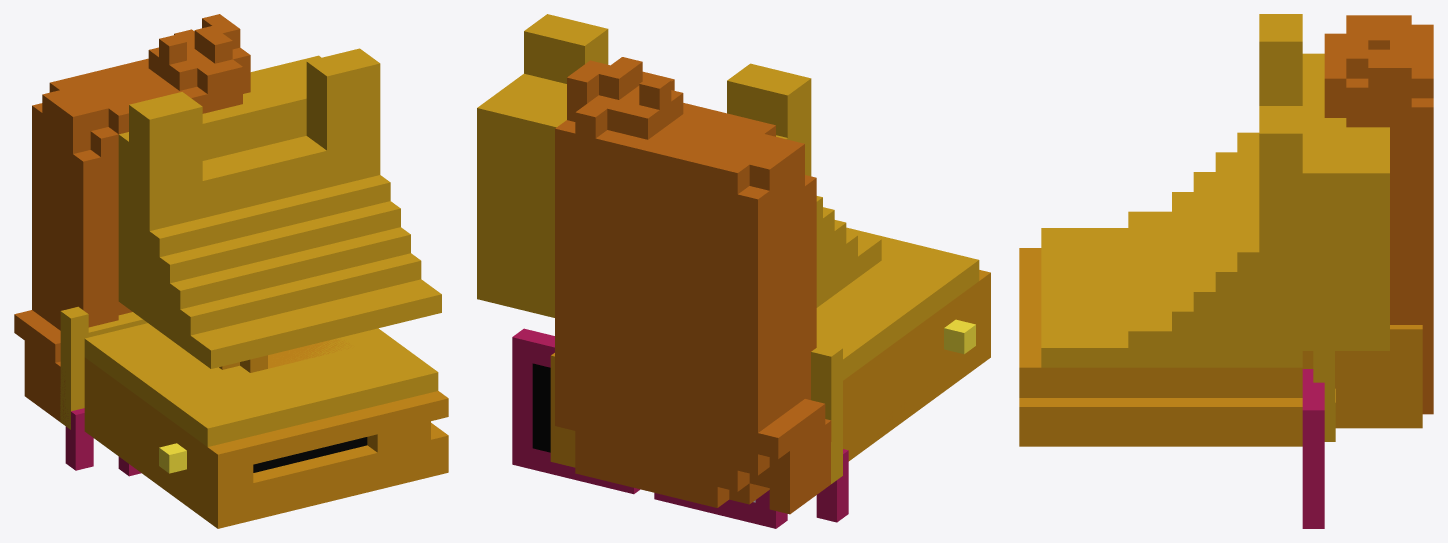
Rendered from deepfriedhorse.glb.
3 renders of one model, left to right at view 1: azimuth 30°, elevation 25°; view 2: azimuth 150°, elevation 25°; view 3: azimuth 270°, elevation 25°, orthographic. The views are drawn at different scales.
Parts seen in each view (by area): view 1: base-2, base, hair, hear-top, layer-1, bottom, hear, monture, nose, layer-2, baseExtra; view 2: hair, base-2, base, monture, hear-top, layer-1, bottom, glass (2), nose, baseExtra; view 3: base-2, base, hair, nose, hear-top, monture, bottom, layer-1.
Boxes of the visible parts, x1,y1,x2,y2 form: base-2: [118, 55, 441, 368]; base: [84, 323, 448, 528]; hair: [14, 14, 250, 423]; hear-top: [129, 48, 380, 138]; layer-1: [60, 306, 147, 429]; bottom: [84, 414, 448, 528]; hear: [167, 86, 362, 189]; monture: [65, 408, 141, 476]; nose: [219, 339, 351, 372]; layer-2: [60, 312, 142, 427]; baseExtra: [159, 443, 186, 473]; hair: [555, 57, 831, 514]; base-2: [477, 50, 881, 317]; base: [816, 227, 990, 460]; monture: [512, 328, 848, 528]; hear-top: [524, 14, 811, 116]; layer-1: [811, 343, 842, 483]; bottom: [847, 337, 990, 460]; glass (2): [532, 363, 755, 502]; nose: [550, 353, 575, 467]; baseExtra: [944, 319, 975, 354]; base-2: [1128, 53, 1389, 350]; base: [1019, 228, 1302, 446]; hair: [1324, 15, 1433, 414]; nose: [1302, 325, 1422, 428]; hear-top: [1259, 14, 1302, 153]; monture: [1302, 369, 1324, 528]; bottom: [1019, 427, 1302, 446]; layer-1: [1313, 351, 1334, 441].
Bounding box in the file's own units: 16.5 × 21 × 19.
Materials: 18 (18 with a texture image).
